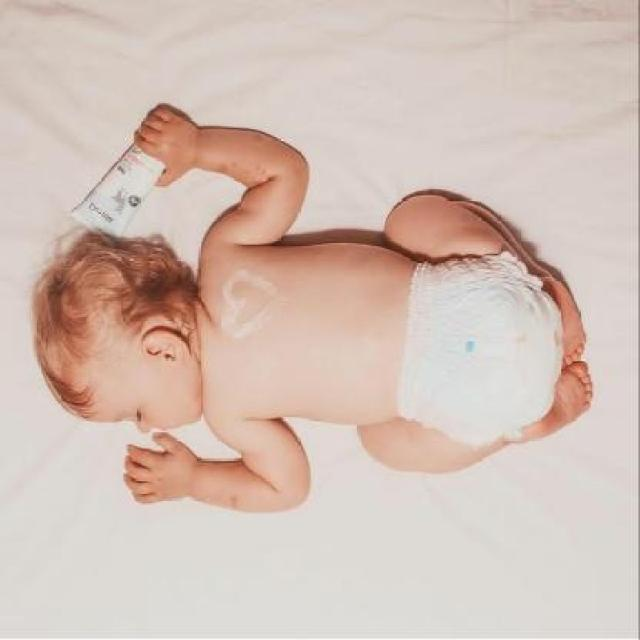baby: (31, 108, 591, 516)
